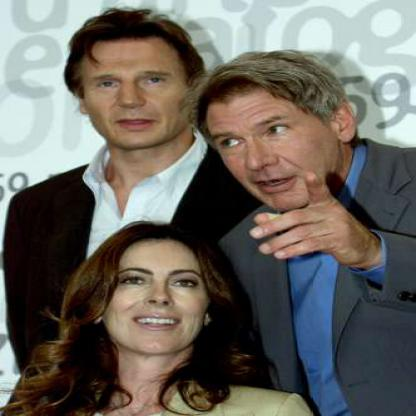face: (206, 64, 339, 214), (77, 19, 196, 151), (100, 232, 217, 357)
